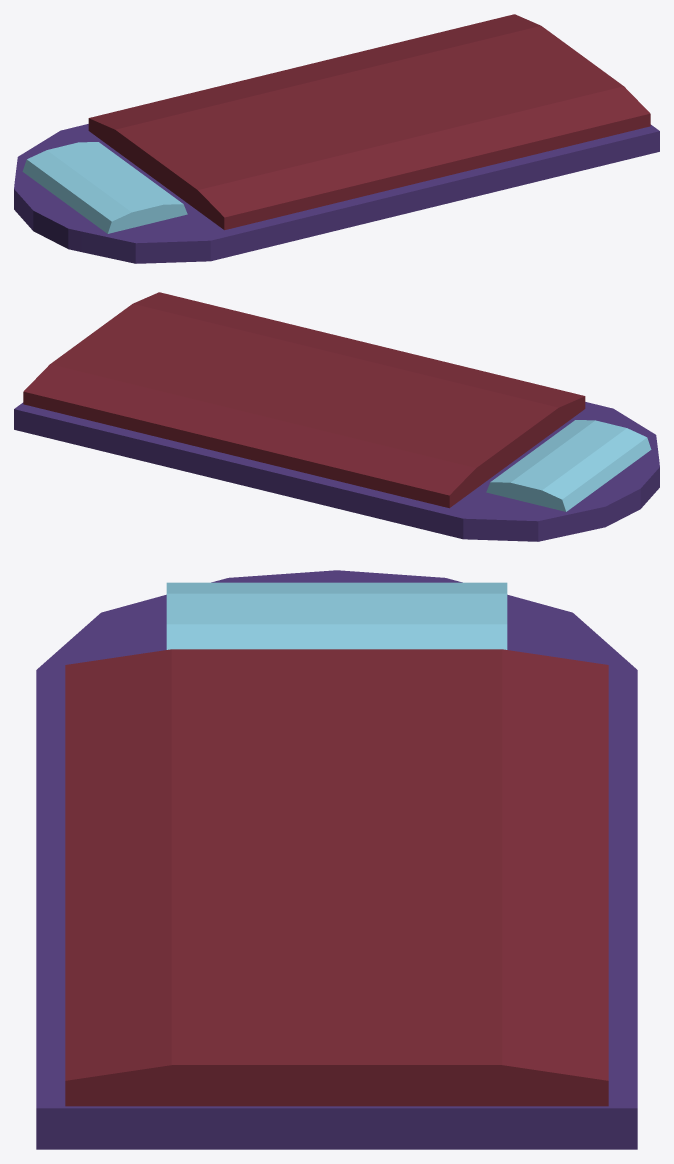
Rendered from Radgroll01.fbx.
The picture shows the model from 3 angles, top to bottom: view 1: azimuth 30°, elevation 25°; view 2: azimuth 150°, elevation 25°; view 3: azimuth 270°, elevation 25°; orthographic projection. The views are drawn at different scales.
Parts seen in each view (by area): view 1: Cube; view 2: Cube; view 3: Cube.
Part boxes in pixels (x1,y1,x2,y2): Cube: (14,14,659,263); Cube: (14,292,659,541); Cube: (36,570,637,1149).
Bounding box in the file's own units: 169 × 12.11 × 80.
